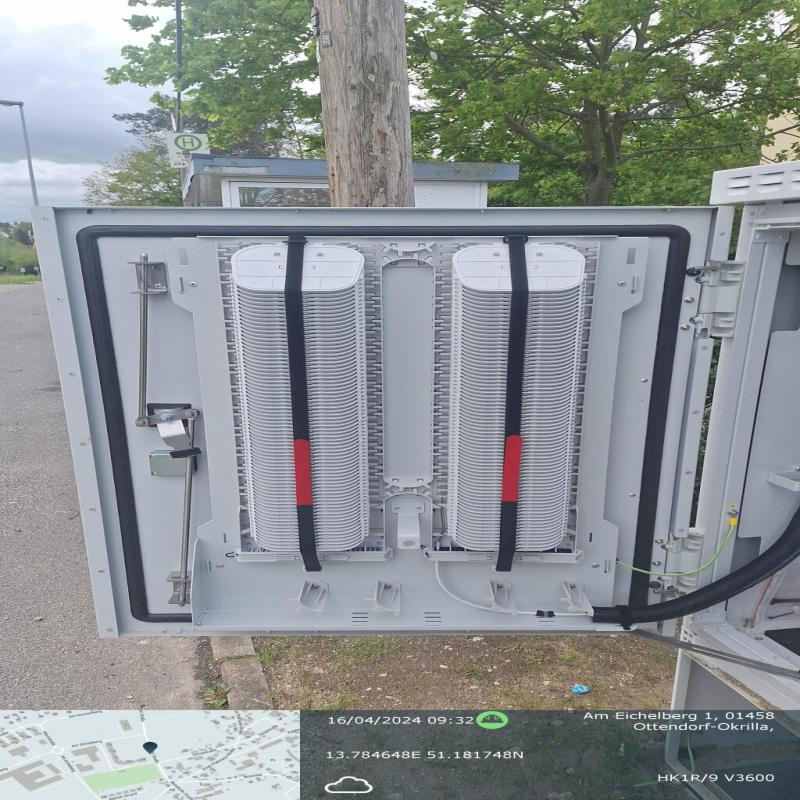NT-Gehause: (39, 167, 800, 710)
Spleiskassetten: (216, 229, 396, 564), (438, 230, 593, 562)
